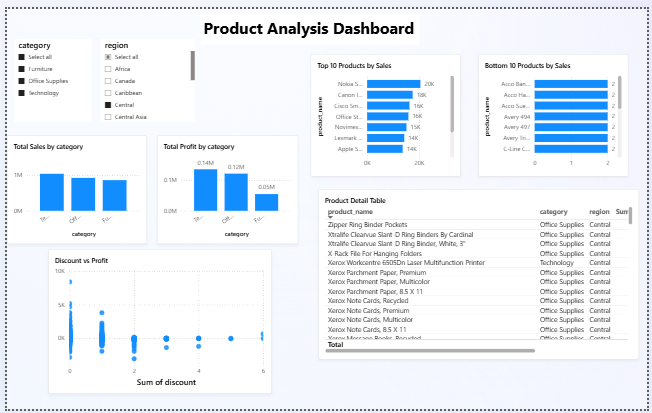

This screenshot's page, from the dashboard's own definition file:
{"tool":"powerbi","page":{"name":"Product","canvas":[1280,800],"ordinal":1},"visuals":[{"type":"slicer","fields":{"Values":["superstore_cleaned_complete.category"]},"box":[15.6,60,154.4,165.6],"z":0},{"type":"textbox","box":[387.8,11.1,437.8,61.1],"z":1000},{"type":"slicer","fields":{"Values":["superstore_cleaned_complete.region"]},"box":[186.7,60,187.8,165.6],"z":2000},{"type":"clusteredBarChart","title":"Top 10 Products by Sales","fields":{"Category":["superstore_cleaned_complete.product_name"],"Y":["superstore_cleaned_complete.Total Sales"]},"box":[606.2,90,300,245],"z":3000},{"type":"clusteredBarChart","title":"Bottom 10 Products by Sales","fields":{"Category":["superstore_cleaned_complete.product_name"],"Y":["superstore_cleaned_complete.Total Sales"]},"box":[942.5,90,300,245],"z":4000},{"type":"clusteredColumnChart","fields":{"Category":["superstore_cleaned_complete.category"],"Y":["superstore_cleaned_complete.Total Sales"]},"box":[0,251.2,280,217.5],"z":5000},{"type":"clusteredColumnChart","fields":{"Category":["superstore_cleaned_complete.category"],"Y":["superstore_cleaned_complete.Total Profit"]},"box":[298.8,251.2,282.5,217.5],"z":6000},{"type":"scatterChart","title":"Discount vs Profit","fields":{"Category":["superstore_cleaned_complete.product_name"],"X":["Sum(superstore_cleaned_complete.discount)"],"Y":["Sum(superstore_cleaned_complete.profit)"]},"box":[81.5,479.6,447,289.4],"z":7000},{"type":"tableEx","title":"Product Detail Table","fields":{"Values":["superstore_cleaned_complete.product_name","superstore_cleaned_complete.category","superstore_cleaned_complete.region","Sum(superstore_cleaned_complete.sales)","Sum(superstore_cleaned_complete.profit)","Sum(superstore_cleaned_complete.discount)"]},"box":[623.6,359.5,642,341.2],"z":8000}]}

Visuals, with their boxes in screenshot pixels (x1, y1, x2, y2), scaled from the page's 1280x800 canvas onto the 652x413 screenshot:
slicer - superstore_cleaned_complete.category: {"x1": 8, "y1": 31, "x2": 87, "y2": 116}
textbox: {"x1": 198, "y1": 6, "x2": 421, "y2": 37}
slicer - superstore_cleaned_complete.region: {"x1": 95, "y1": 31, "x2": 191, "y2": 116}
"Top 10 Products by Sales" clusteredBarChart: {"x1": 309, "y1": 46, "x2": 462, "y2": 173}
"Bottom 10 Products by Sales" clusteredBarChart: {"x1": 480, "y1": 46, "x2": 633, "y2": 173}
clusteredColumnChart - superstore_cleaned_complete.category x superstore_cleaned_complete.Total Sales: {"x1": 0, "y1": 130, "x2": 143, "y2": 242}
clusteredColumnChart - superstore_cleaned_complete.category x superstore_cleaned_complete.Total Profit: {"x1": 152, "y1": 130, "x2": 296, "y2": 242}
"Discount vs Profit" scatterChart: {"x1": 42, "y1": 248, "x2": 269, "y2": 397}
"Product Detail Table" tableEx: {"x1": 318, "y1": 186, "x2": 645, "y2": 362}
